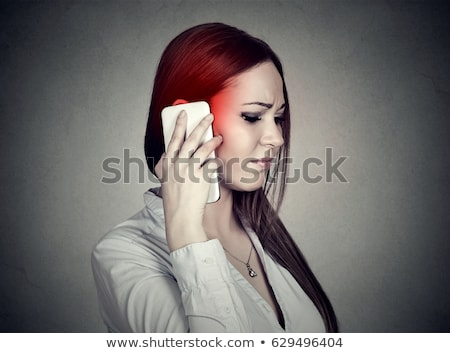phone: (152, 101, 234, 210)
talk: (151, 92, 291, 233)
